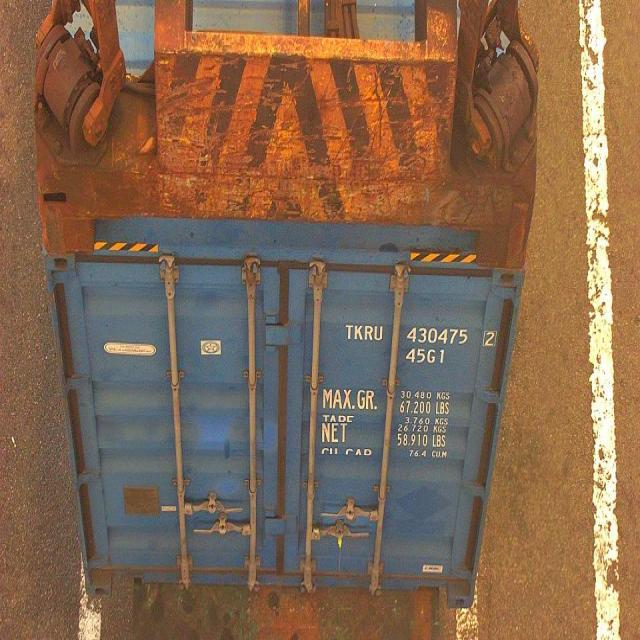ISO: (406, 346, 448, 364)
container_number: (342, 319, 496, 349)
